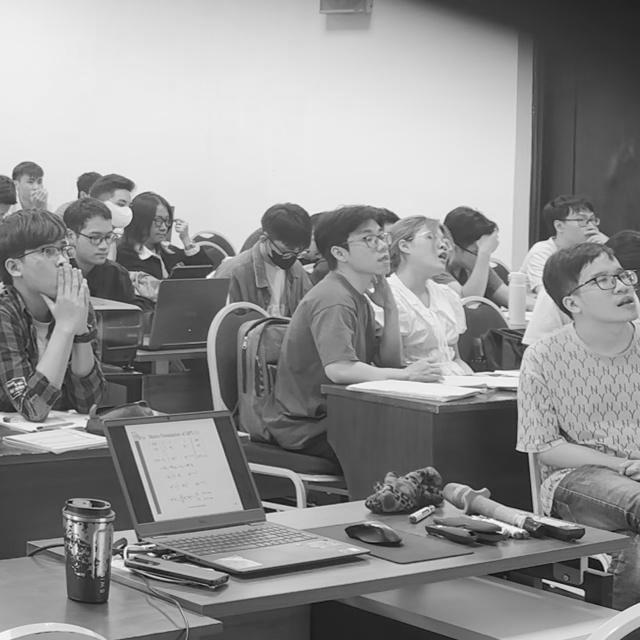Looking away: (84, 225, 114, 262), (268, 241, 304, 268), (149, 212, 169, 240)
Looking forward: (585, 262, 639, 322), (33, 238, 70, 290), (357, 229, 390, 273), (419, 230, 450, 267), (574, 211, 598, 242), (22, 175, 42, 200)
